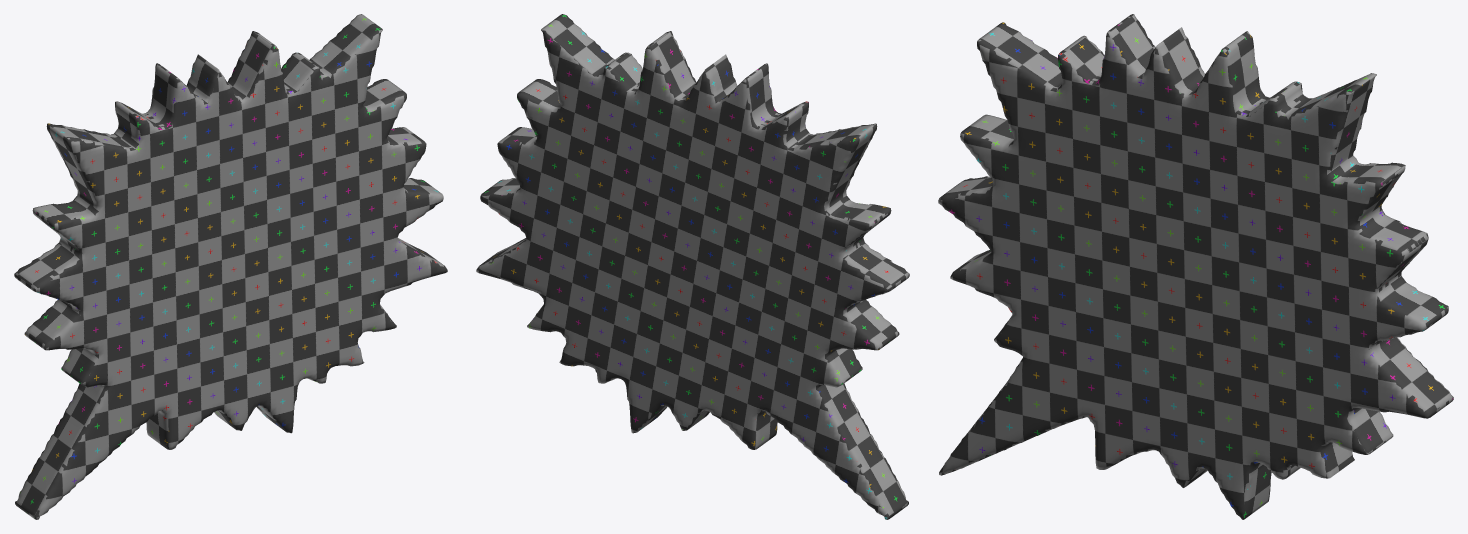
The picture shows the model from 3 angles, left to right: view 1: azimuth 30°, elevation 25°; view 2: azimuth 150°, elevation 25°; view 3: azimuth 330°, elevation 25°; orthographic projection. The views are drawn at different scales.
Parts seen in each view (by area): view 1: Curve; view 2: Curve; view 3: Curve.
Part boxes in pixels (box(x1,y1,x2,y2)): Curve: box(14, 14, 447, 519); Curve: box(476, 14, 909, 519); Curve: box(938, 14, 1453, 519).
Size of the model in its own units: 4.08 by 3.93 by 0.4.
Materials: 1 (1 with a texture image).
